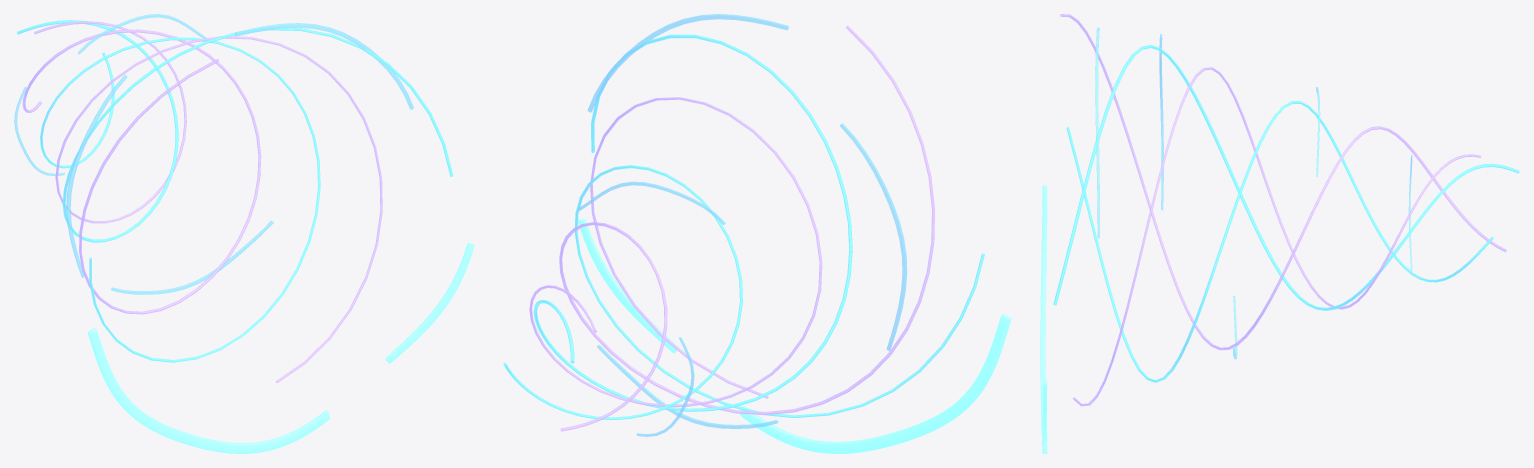
File: wormhole-arena-depth-v2.glb
3 renders of one model, left to right at view 1: azimuth 30°, elevation 25°; view 2: azimuth 150°, elevation 25°; view 3: azimuth 270°, elevation 25°, orthographic. The views are drawn at different scales.
Visible parts, largest first — view 1: near_lip_primary, shaft_twist_04, shaft_twist_01, shaft_twist_02, shaft_twist_03, near_lip_secondary, depth_band_02, depth_band_01, depth_band_03, depth_band_04; view 2: shaft_twist_02, near_lip_primary, shaft_twist_03, shaft_twist_04, shaft_twist_01, near_lip_secondary, depth_band_01, depth_band_02, depth_band_03, depth_band_04; view 3: shaft_twist_01, shaft_twist_03, shaft_twist_02, shaft_twist_04, near_lip_primary, depth_band_01, depth_band_02.
Boxes of the visible parts, box(x1,y1,x2,y2) form: near_lip_primary: box(87, 328, 330, 453); shaft_twist_04: box(34, 21, 382, 382); shaft_twist_01: box(16, 20, 453, 242); shaft_twist_02: box(22, 29, 261, 314); shaft_twist_03: box(40, 37, 320, 362); near_lip_secondary: box(385, 243, 474, 363); depth_band_02: box(66, 74, 127, 277); depth_band_01: box(235, 23, 413, 109); depth_band_03: box(111, 220, 273, 294); depth_band_04: box(77, 14, 206, 54); shaft_twist_02: box(559, 25, 934, 431); near_lip_primary: box(740, 314, 1011, 453); shaft_twist_03: box(503, 165, 984, 419); shaft_twist_04: box(529, 97, 822, 407); shaft_twist_01: box(533, 34, 852, 411); near_lip_secondary: box(578, 219, 678, 353); depth_band_01: box(587, 14, 788, 112); depth_band_02: box(840, 123, 907, 351); depth_band_03: box(596, 345, 778, 428); depth_band_04: box(577, 181, 725, 225); shaft_twist_01: box(1053, 45, 1519, 310); shaft_twist_03: box(1066, 101, 1493, 382); shaft_twist_02: box(1060, 14, 1506, 350); shaft_twist_04: box(1073, 67, 1481, 406); near_lip_primary: box(1040, 185, 1047, 453); depth_band_01: box(1095, 27, 1099, 238); depth_band_02: box(1159, 34, 1163, 210).
Size of the model in its own units: 143 by 141 by 150.
